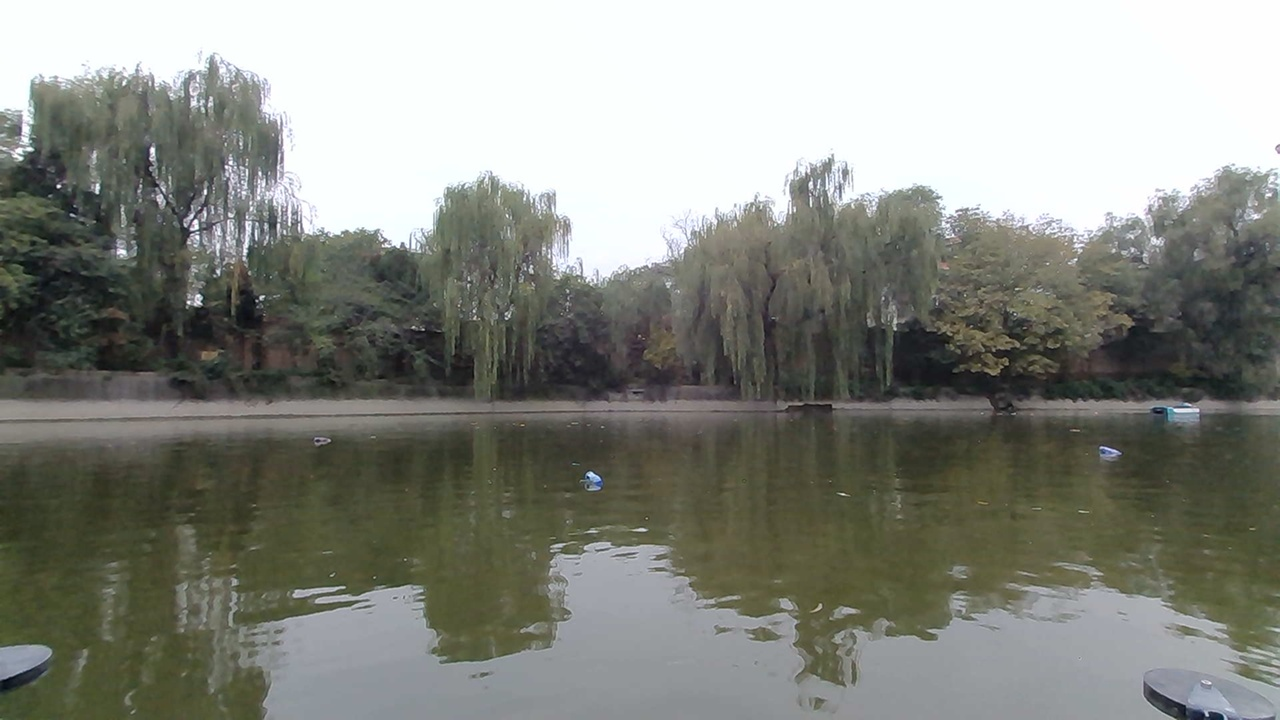bottle: (568, 461, 618, 498), (1093, 435, 1138, 469), (310, 420, 342, 454)
